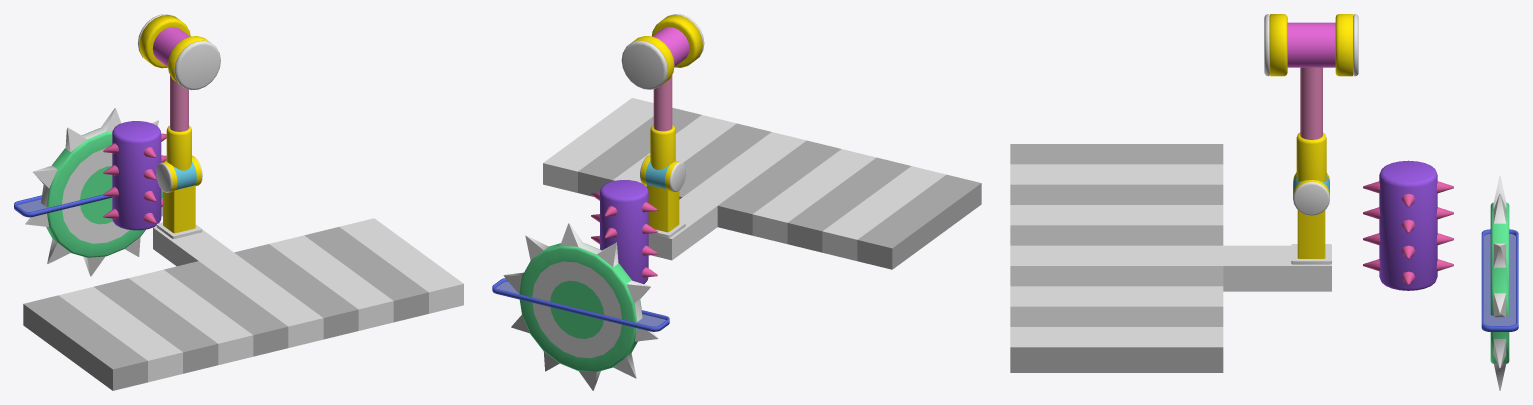
The model's file is antGameAssets.fbx.
3 renders of one model, left to right at view 1: azimuth 30°, elevation 25°; view 2: azimuth 150°, elevation 25°; view 3: azimuth 270°, elevation 25°, orthographic. The views are drawn at different scales.
Visible parts, largest first — view 1: platform, saw, hammer, trap, hammer_Platform, saw_Platform; view 2: platform, saw, hammer, trap, hammer_Platform, saw_Platform; view 3: platform, hammer, trap, hammer_Platform, saw, saw_Platform.
Boxes of the visible parts, box(x1,y1,x2,y2) form: platform: box(23, 218, 463, 390); saw: box(25, 108, 166, 276); hammer: box(137, 14, 220, 192); trap: box(103, 121, 166, 230); hammer_Platform: box(153, 185, 233, 266); saw_Platform: box(14, 194, 112, 217); platform: box(543, 98, 981, 269); saw: box(503, 223, 658, 390); hammer: box(621, 14, 704, 192); trap: box(591, 180, 657, 283); hammer_Platform: box(646, 184, 717, 260); saw_Platform: box(492, 278, 669, 331); platform: box(1010, 144, 1223, 372); hammer: box(1264, 14, 1358, 215); trap: box(1363, 160, 1453, 290); hammer_Platform: box(1223, 210, 1331, 291); saw: box(1490, 175, 1509, 390); saw_Platform: box(1481, 229, 1518, 331).
Size of the model in its own units: 2596 by 2149 by 2740.
Materials: 1 (1 with a texture image).
